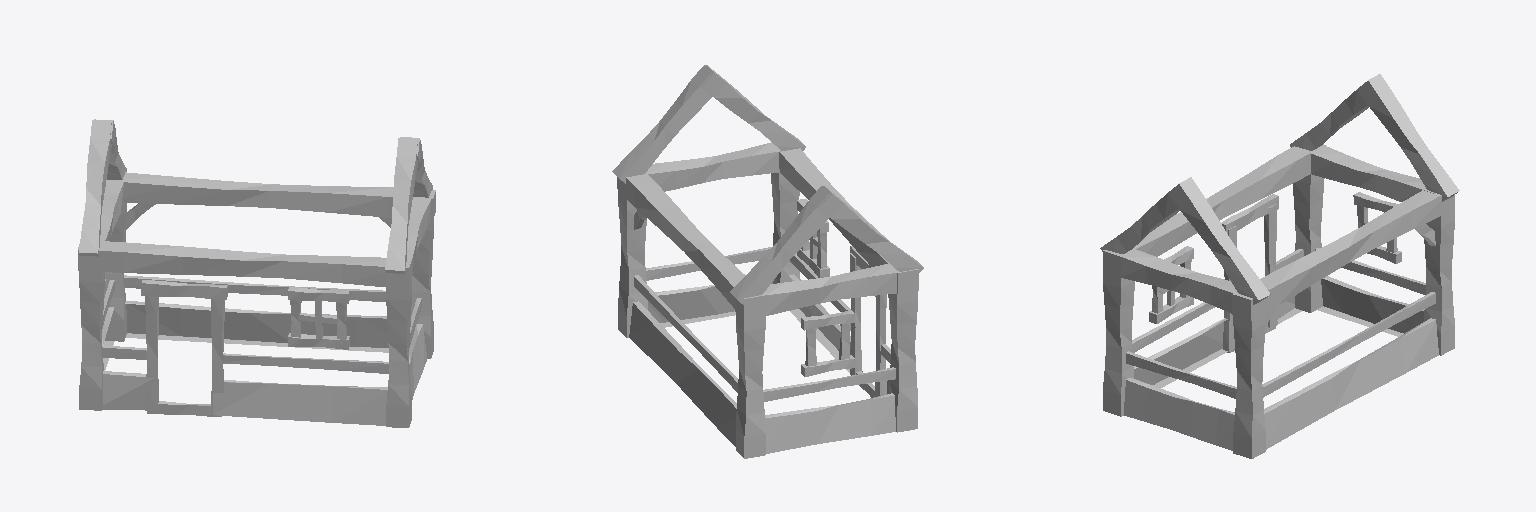
The model's file is Spawn Edge.obj.
3 views of the same model, side by side, from view 1: azimuth 30°, elevation 25°; view 2: azimuth 150°, elevation 25°; view 3: azimuth 270°, elevation 25° (orthographic).
Visible parts, largest first — view 1: Spawn_1; view 2: Spawn_1; view 3: Spawn_1.
Part boxes in pixels (x1,y1,x2,y2): Spawn_1: (78,119,435,427); Spawn_1: (612,65,923,458); Spawn_1: (1100,74,1459,458).
Bounding box in the file's own units: 0.1166 × 0.0849 × 0.109.